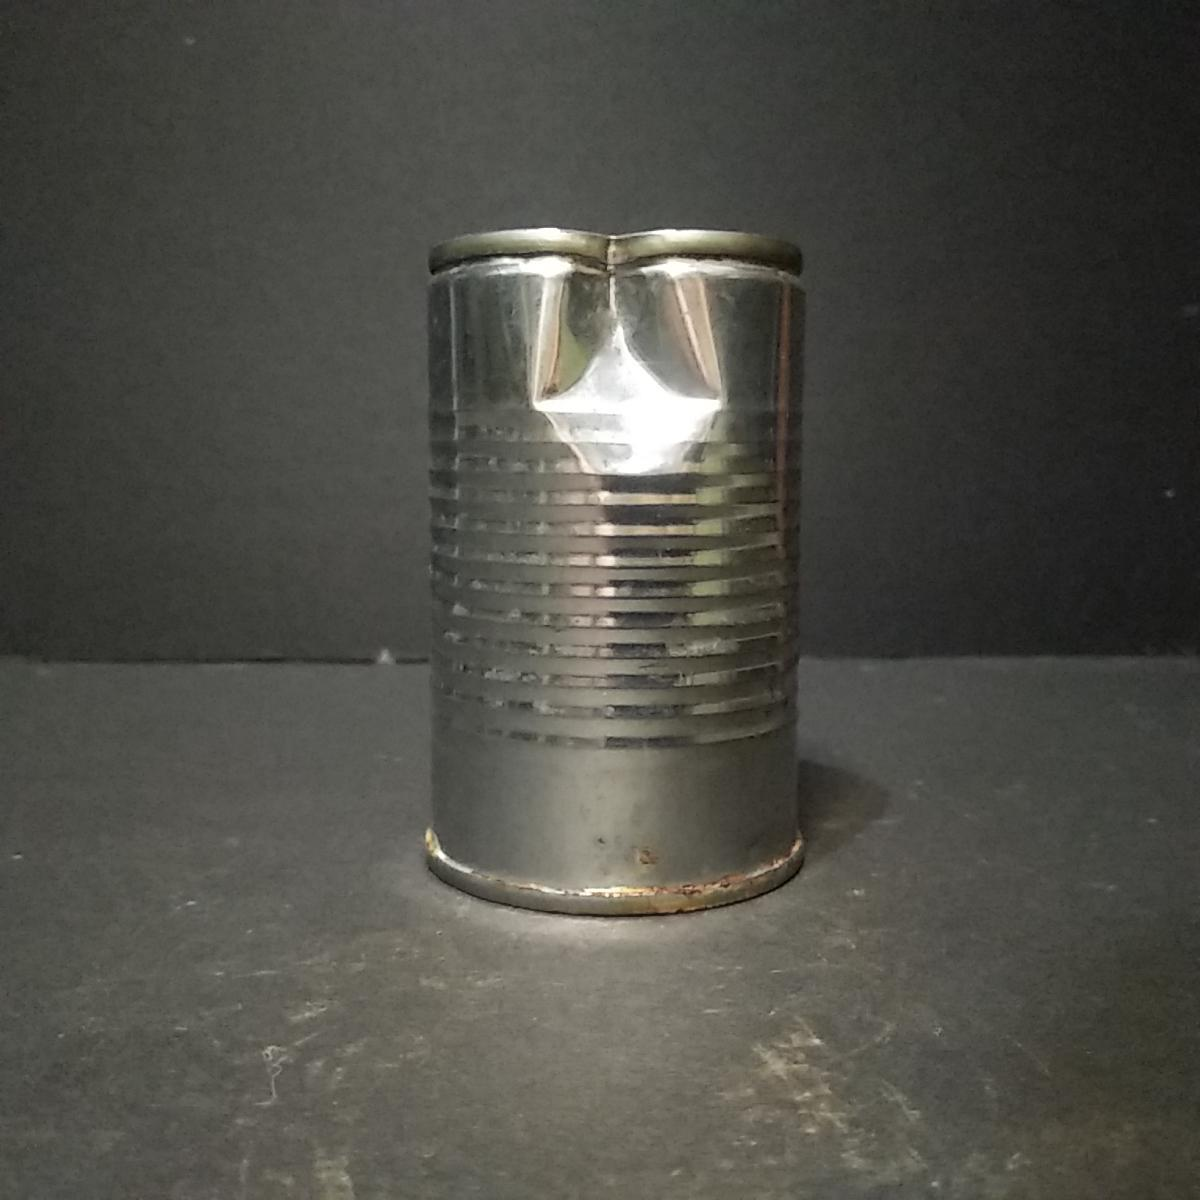Dented: (412, 204, 838, 927)
